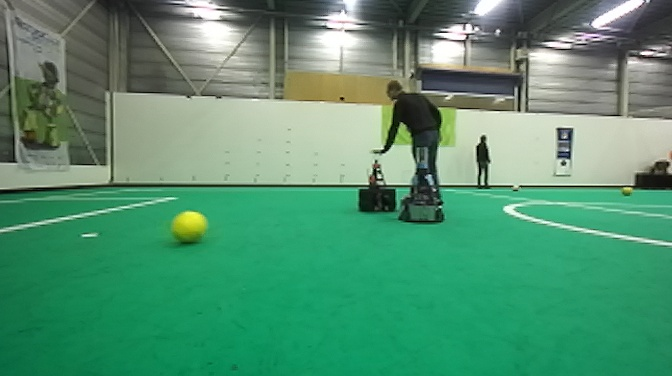ball: (168, 209, 210, 248), (619, 184, 633, 197), (509, 181, 523, 194)
human: (368, 79, 443, 210), (473, 133, 493, 189)
robot: (396, 141, 447, 225), (358, 150, 399, 214)
